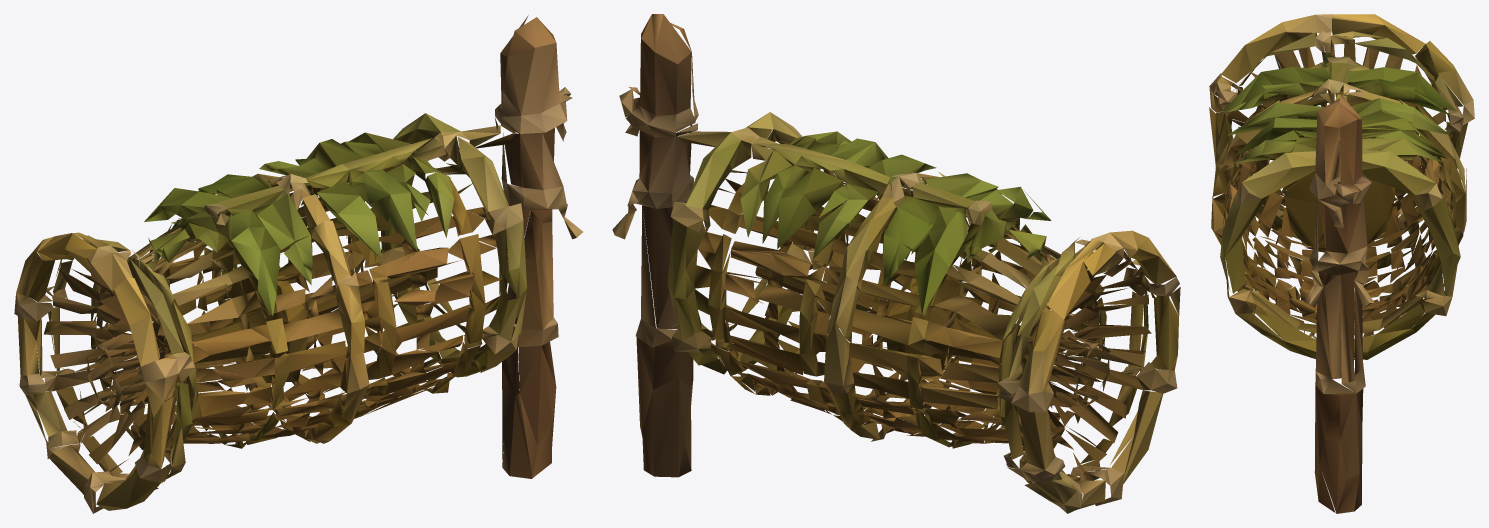
Rendered from building-fishTrap.glb.
The picture shows the model from 3 angles, left to right: view 1: azimuth 30°, elevation 25°; view 2: azimuth 150°, elevation 25°; view 3: azimuth 270°, elevation 25°; orthographic projection. The views are drawn at different scales.
Visible parts, largest first — view 1: 0_fishTrap; view 2: 0_fishTrap; view 3: 0_fishTrap.
Boxes of the visible parts, bbox=[...] form: 0_fishTrap: bbox=[14, 15, 582, 513]; 0_fishTrap: bbox=[612, 14, 1180, 513]; 0_fishTrap: bbox=[1209, 14, 1474, 513].
Size of the model in its own units: 1.14 by 1 by 0.5844.
